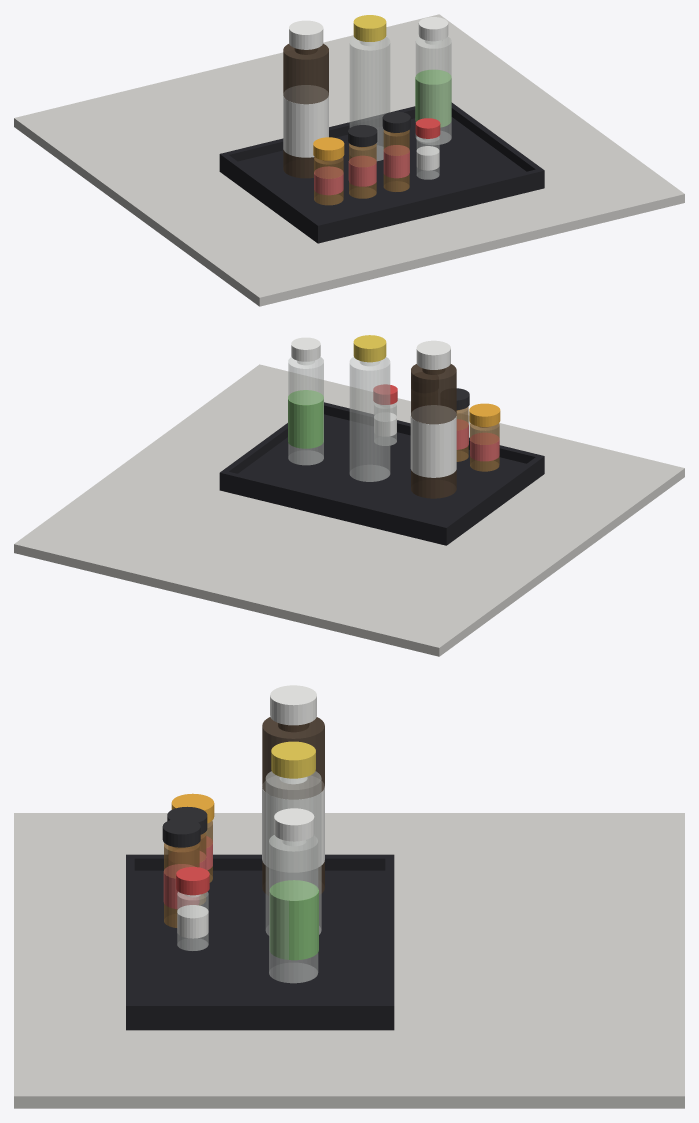
File: Seasoning.glb
The picture shows the model from 3 angles, top to bottom: view 1: azimuth 30°, elevation 25°; view 2: azimuth 150°, elevation 25°; view 3: azimuth 270°, elevation 25°; orthographic projection. The views are drawn at different scales.
Visible parts, largest first — view 1: Cond_Counter, Cond_TrayBottom, Cond_Vinegar_Body, Cond_Soy_Body, Cond_GreenLabel_Body, Cond_TrayRim_F, Cond_Soy_Label, Cond_GreenLabel_Label, Cond_TrayRim_B, Cond_TrayRim_L, Cond_TrayRim_R, Cond_Small3_Body (+14 smaller); view 2: Cond_Counter, Cond_TrayBottom, Cond_Vinegar_Body, Cond_Soy_Body, Cond_Soy_Label, Cond_TrayRim_B, Cond_GreenLabel_Body, Cond_GreenLabel_Label, Cond_TrayRim_L, Cond_TrayRim_F, Cond_Soy_Cap, Cond_TrayRim_R (+6 smaller); view 3: Cond_Counter, Cond_TrayBottom, Cond_GreenLabel_Body, Cond_Vinegar_Body, Cond_TrayRim_R, Cond_GreenLabel_Label, Cond_Soy_Label, Cond_Soy_Body, Cond_TrayRim_L, Cond_Soy_Cap, Cond_TrayRim_B, Cond_Vinegar_Cap (+9 smaller).
Part boxes in pixels (x1,y1,x2,y2): Cond_Counter: [14, 14, 684, 306]; Cond_TrayBottom: [219, 117, 544, 243]; Cond_Vinegar_Body: [349, 37, 390, 160]; Cond_Soy_Body: [283, 43, 328, 178]; Cond_GreenLabel_Body: [415, 37, 451, 144]; Cond_TrayRim_F: [314, 168, 544, 234]; Cond_Soy_Label: [283, 85, 328, 157]; Cond_GreenLabel_Label: [415, 69, 451, 127]; Cond_TrayRim_B: [219, 106, 415, 164]; Cond_TrayRim_L: [223, 155, 319, 231]; Cond_TrayRim_R: [451, 102, 540, 171]; Cond_Small3_Body: [383, 130, 409, 191]; Cond_Counter: [14, 364, 684, 656]; Cond_TrayBottom: [219, 414, 544, 545]; Cond_Vinegar_Body: [349, 357, 390, 481]; Cond_Soy_Body: [411, 364, 456, 498]; Cond_Soy_Label: [410, 405, 456, 477]; Cond_TrayRim_B: [219, 470, 449, 536]; Cond_GreenLabel_Body: [288, 357, 323, 465]; Cond_GreenLabel_Label: [288, 390, 323, 448]; Cond_TrayRim_L: [444, 457, 541, 533]; Cond_TrayRim_F: [324, 402, 544, 466]; Cond_Soy_Cap: [416, 340, 450, 369]; Cond_TrayRim_R: [223, 423, 287, 473]; Cond_Counter: [14, 813, 684, 1108]; Cond_TrayBottom: [126, 870, 394, 1030]; Cond_GreenLabel_Body: [269, 835, 318, 983]; Cond_Vinegar_Body: [265, 771, 321, 935]; Cond_TrayRim_R: [134, 1002, 385, 1017]; Cond_GreenLabel_Label: [269, 880, 318, 960]; Cond_Soy_Label: [262, 777, 324, 871]; Cond_Soy_Body: [262, 717, 324, 895]; Cond_TrayRim_L: [134, 854, 385, 870]; Cond_Soy_Cap: [270, 685, 316, 725]; Cond_TrayRim_B: [385, 854, 394, 1017]; Cond_Vinegar_Cap: [271, 741, 315, 778].
Size of the model in its own units: 0.6 by 0.226 by 0.6.
